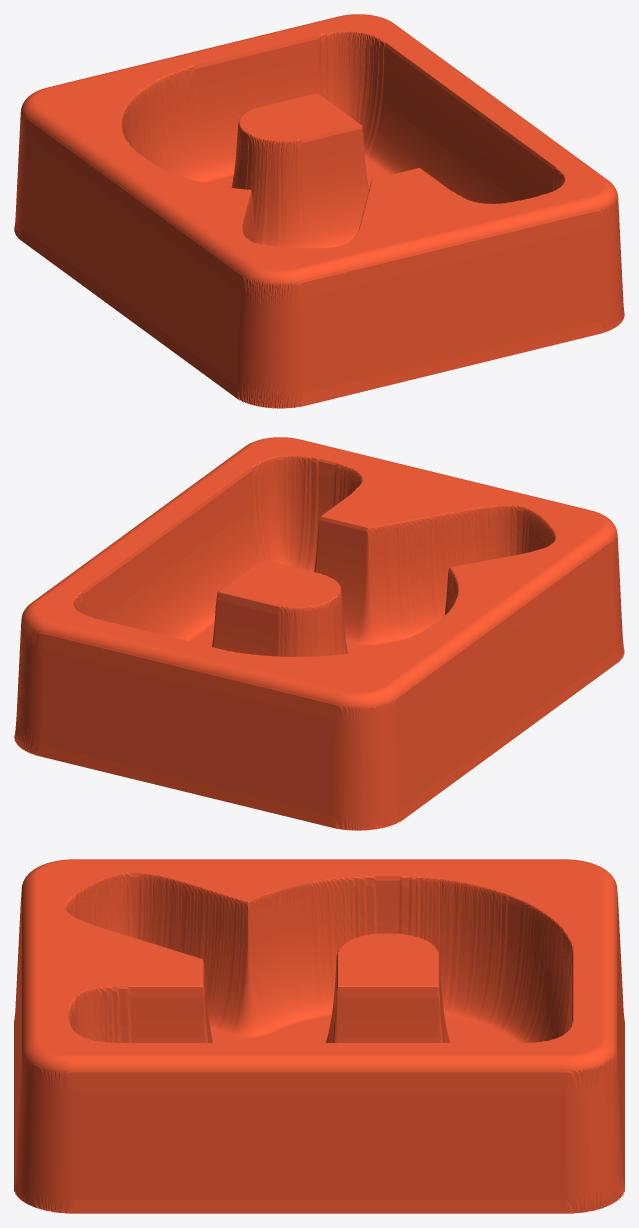
File: mold.glb
3 views of the same model, one above another, from view 1: azimuth 30°, elevation 25°; view 2: azimuth 150°, elevation 25°; view 3: azimuth 270°, elevation 25° (orthographic). The views are drawn at different scales.
Parts seen in each view (by area): view 1: geometry_0; view 2: geometry_0; view 3: geometry_0.
Part boxes in pixels (x1,y1,x2,y2): geometry_0: [14, 14, 624, 408]; geometry_0: [14, 437, 624, 830]; geometry_0: [14, 859, 624, 1213].
Size of the model in its own units: 0.0766 by 0.0248 by 0.0924.
